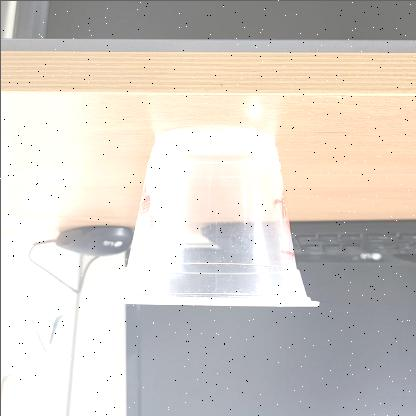Others: (103, 125, 320, 308)
